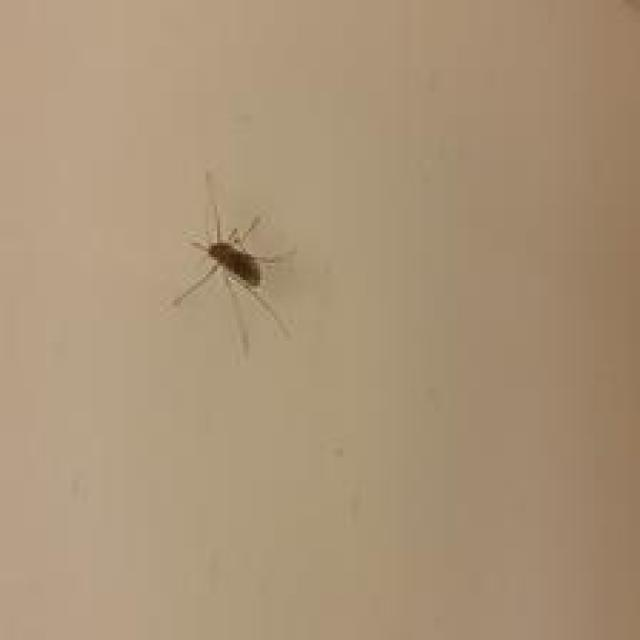Culex: (169, 169, 297, 357)
